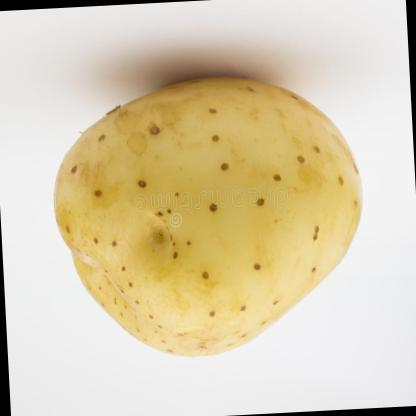potato: (46, 67, 372, 365)
